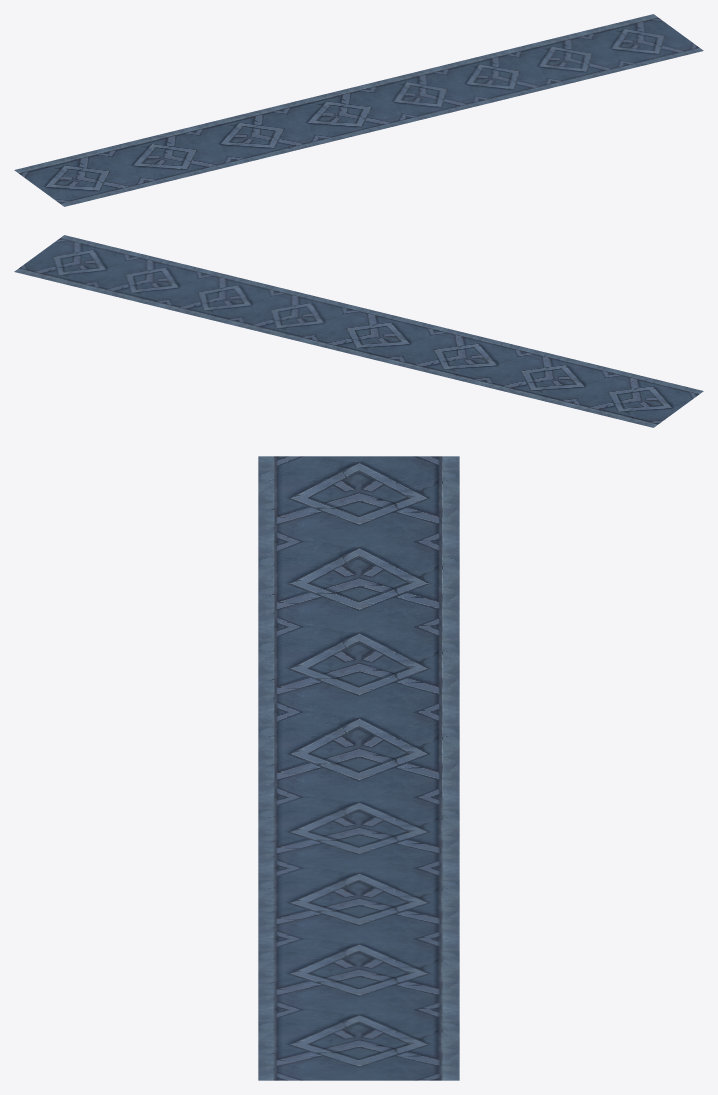
Rendered from Area_12_5.fbx.
3 views of the same model, one above another, from view 1: azimuth 30°, elevation 25°; view 2: azimuth 150°, elevation 25°; view 3: azimuth 270°, elevation 25° (orthographic). The views are drawn at different scales.
Parts seen in each view (by area): view 1: Area_12_5; view 2: Area_12_5; view 3: Area_12_5.
Part boxes in pixels (x1,y1,x2,y2): Area_12_5: [14, 14, 703, 206]; Area_12_5: [14, 235, 703, 427]; Area_12_5: [258, 456, 459, 1080].
Bounding box in the file's own units: 4484 × 0.000137 × 612.
Materials: 1 (1 with a texture image).
